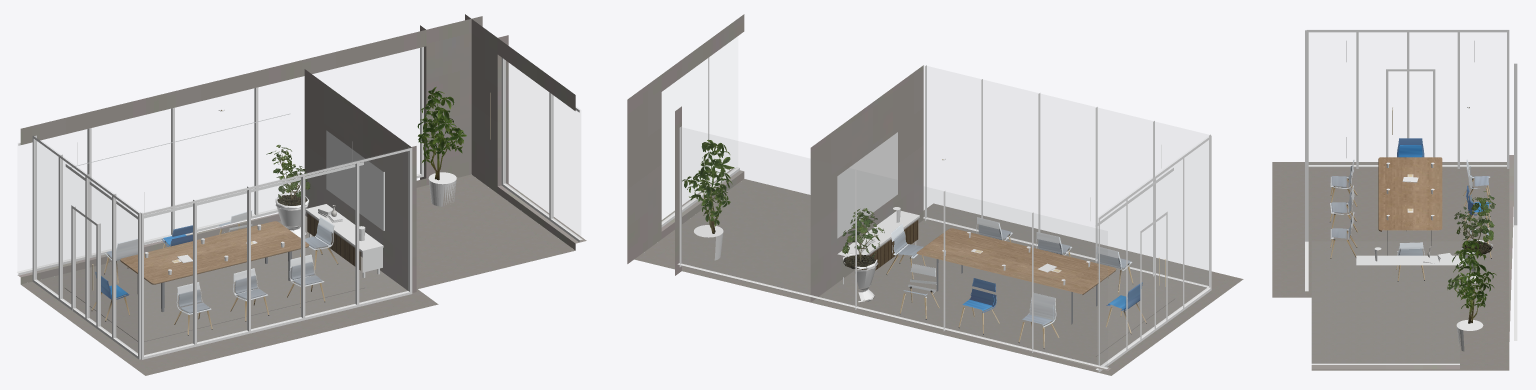
The model's file is z-open_n-lite.full.f11d32be.glb.
3 renders of one model, left to right at view 1: azimuth 30°, elevation 25°; view 2: azimuth 150°, elevation 25°; view 3: azimuth 270°, elevation 25°, orthographic. The views are drawn at different scales.
Parts seen in each view (by area): view 1: open_n_carpet, open_n_plaster, open_n_satin, open_n_glass, open_n_oak, open_n_fx, open_n_gloss, open_n_veg_atlas, open_n_proxy_cab; view 2: open_n_carpet, open_n_plaster, open_n_glass, open_n_satin, open_n_oak, open_n_fx, open_n_gloss, open_n_veg_atlas, open_n_proxy_cab; view 3: open_n_carpet, open_n_satin, open_n_oak, open_n_veg_atlas, open_n_fx, open_n_plaster.
Boxes of the visible parts, <box> form: open_n_carpet: <box>21,174,575,375</box>; open_n_plaster: <box>17,14,586,292</box>; open_n_satin: <box>17,47,582,359</box>; open_n_glass: <box>37,140,303,267</box>; open_n_oak: <box>120,221,309,284</box>; open_n_fx: <box>91,210,338,335</box>; open_n_gloss: <box>144,130,384,274</box>; open_n_veg_atlas: <box>266,86,466,205</box>; open_n_proxy_cab: <box>307,213,360,270</box>; open_n_carpet: <box>634,179,1243,375</box>; open_n_plaster: <box>627,14,1110,370</box>; open_n_glass: <box>682,127,1208,365</box>; open_n_satin: <box>661,57,1211,372</box>; open_n_oak: <box>916,228,1116,294</box>; open_n_fx: <box>886,217,1146,348</box>; open_n_gloss: <box>837,132,1090,285</box>; open_n_veg_atlas: <box>682,139,884,269</box>; open_n_proxy_cab: <box>861,220,918,270</box>; open_n_carpet: <box>1272,162,1509,370</box>; open_n_satin: <box>1305,30,1517,364</box>; open_n_oak: <box>1378,157,1442,231</box>; open_n_veg_atlas: <box>1447,191,1496,323</box>; open_n_fx: <box>1329,138,1491,281</box>; open_n_plaster: <box>1311,155,1513,369</box>.
Bounding box in the file's own units: 10.25 × 3.3 × 5.05.
Materials: 12 (6 with a texture image).
